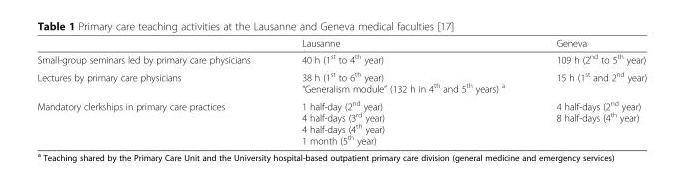table: (36, 37, 646, 145)
table column: (275, 37, 529, 145), (36, 37, 275, 145), (529, 37, 646, 145)
table column header: (36, 37, 646, 50)
table row: (36, 96, 646, 145), (36, 67, 646, 96), (36, 50, 646, 67), (36, 37, 646, 50)
